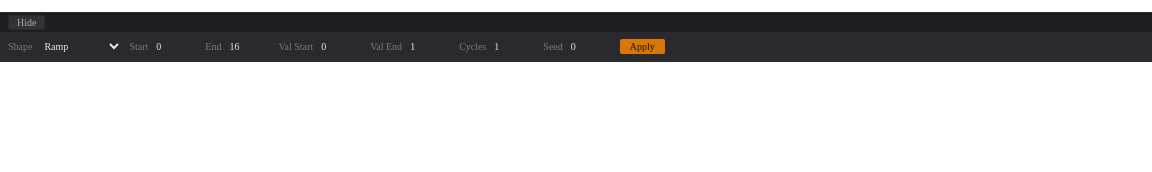
Test: EnvelopeGenerateControl › collapses controls when Hide clicked
This screenshot has width=1152, height=172.
expect the text "Shape" is shown: met, box [8,41,32,52]
Click the button "Hide" at (27, 22), box [8,15,46,30]
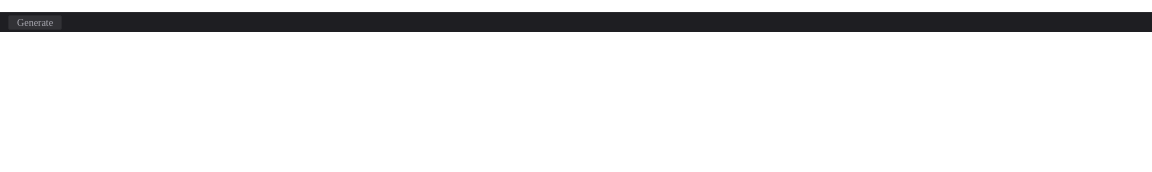
expect the text "Shape" is gone: met
